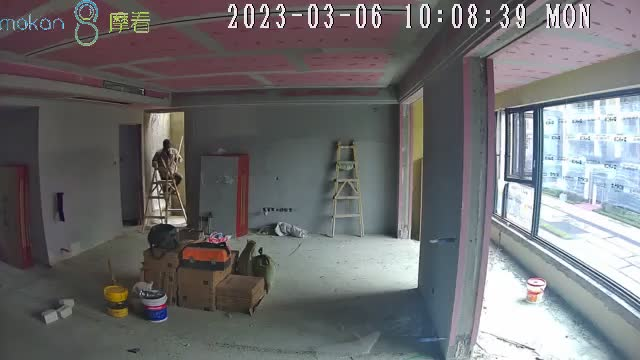people: (153, 139, 182, 197)
window: (496, 86, 640, 296)
